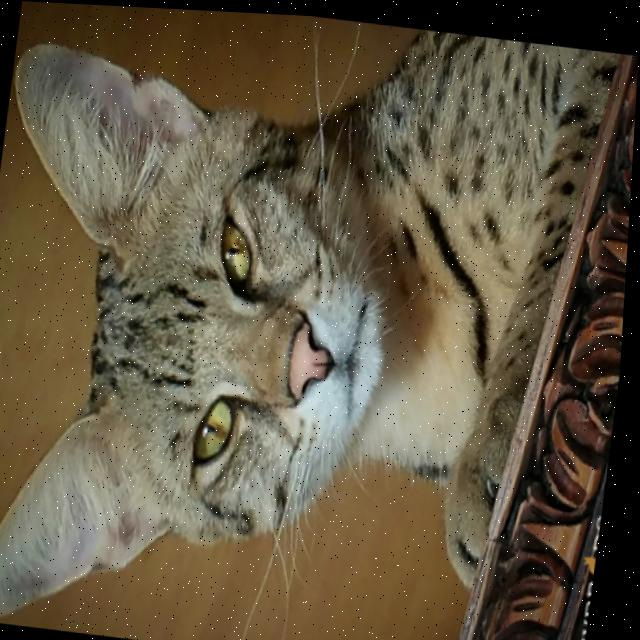Savannah: (0, 0, 634, 640)
